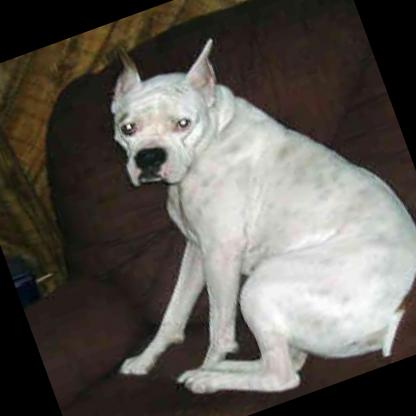boxer: (15, 0, 416, 416)
